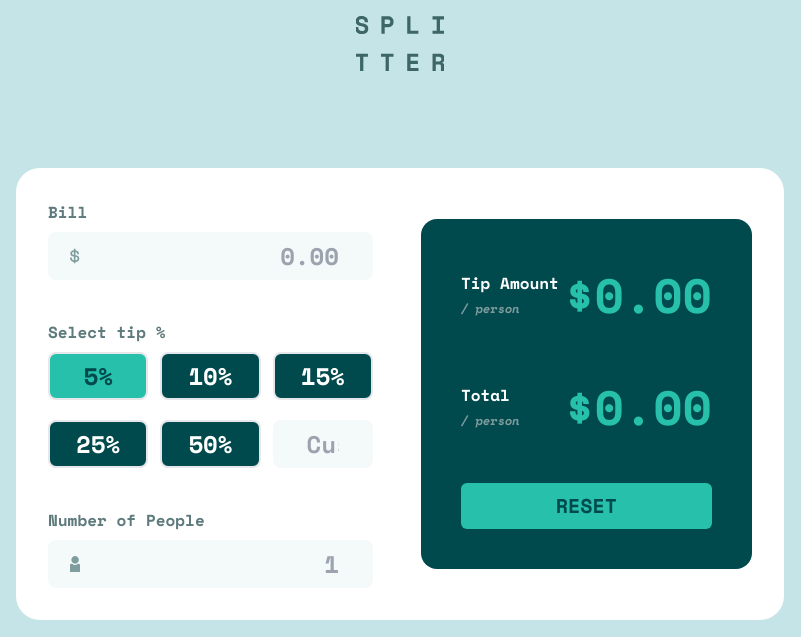
TipForm Component › functional › caculator
Step 1. Type "100" into the field labelled "Bill" → point(210, 256), box [48, 232, 373, 280]
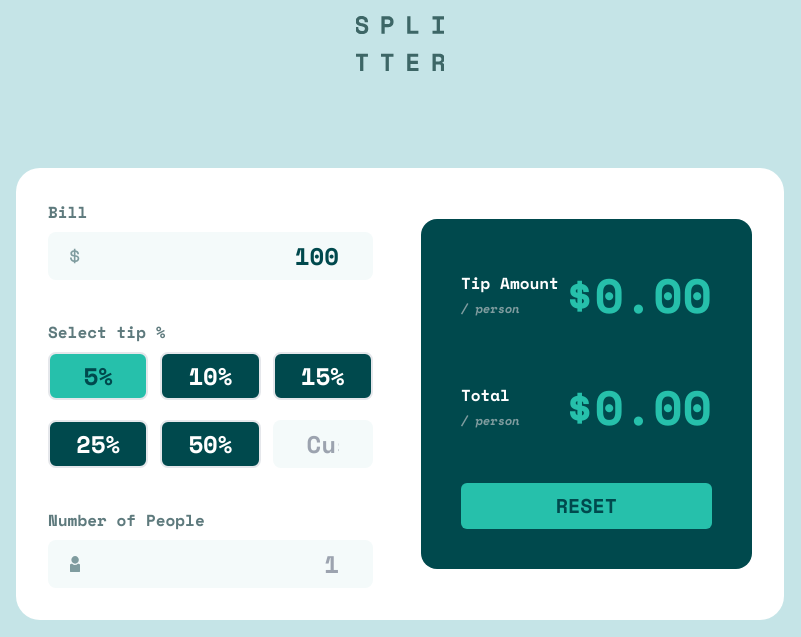
Step 2. Type "2" into the field labelled "Number of People" → point(210, 564), box [48, 540, 373, 588]
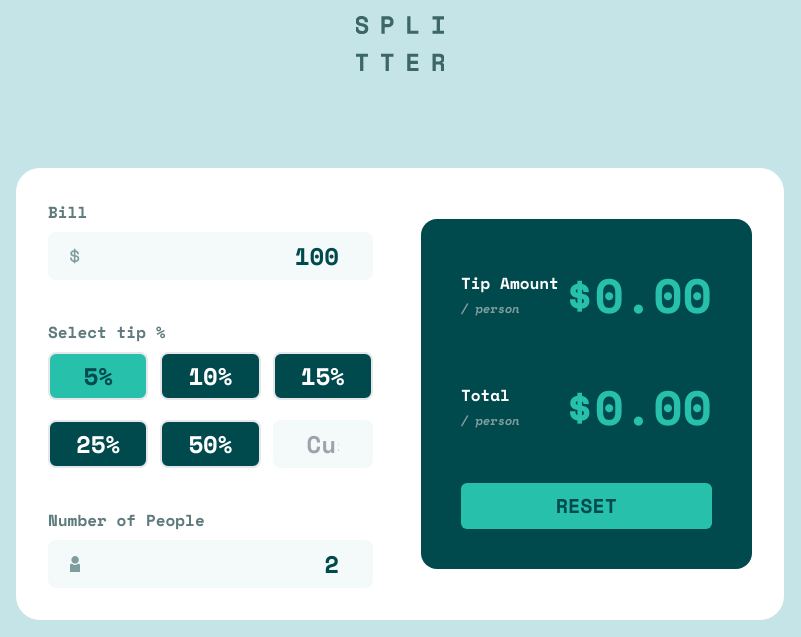
Step 3. Click the 2nd field showing "10%" → point(210, 376), box [160, 352, 261, 400]
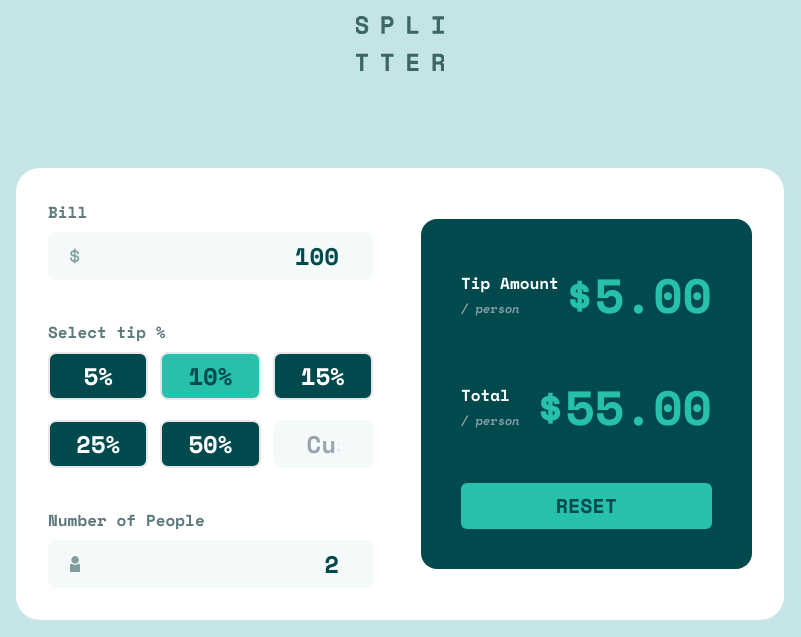
Check: the text "$5.00" is shown, box [565, 259, 712, 331]
Check: the text "$55.00" is shown, box [536, 371, 712, 443]
